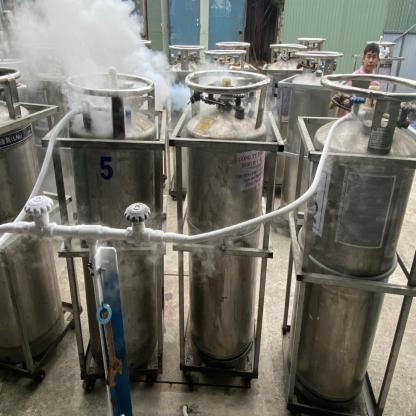smoke: (0, 0, 199, 124)
